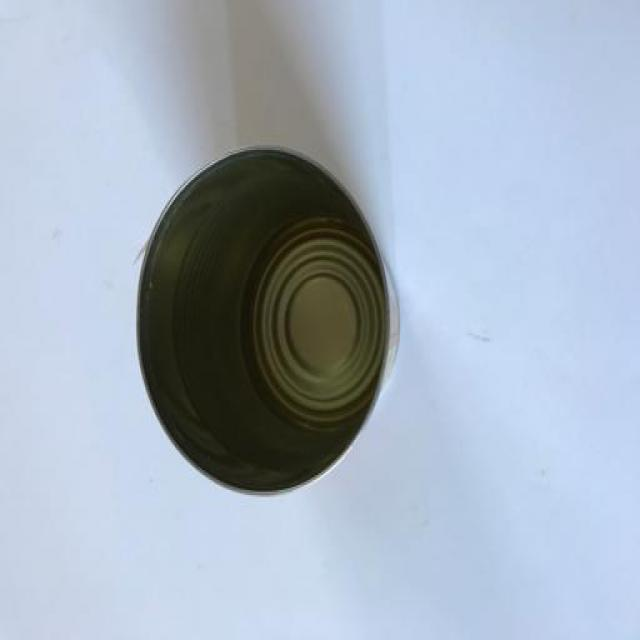metel: (128, 138, 436, 538)
